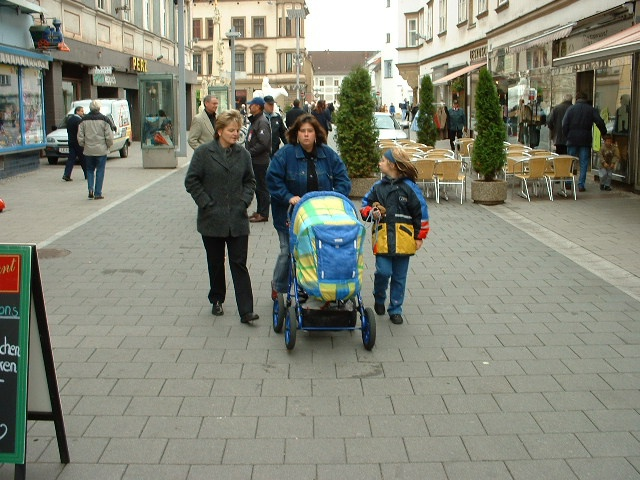person: (184, 104, 262, 321), (359, 145, 429, 325), (75, 98, 114, 200)
